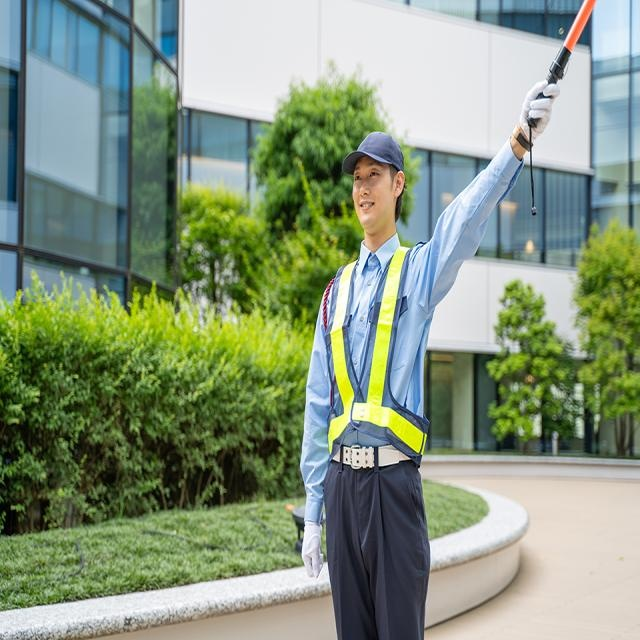Con_Chaleco: (322, 246, 429, 468)
Sin_Casco_Mascarrilla: (345, 131, 407, 238)
